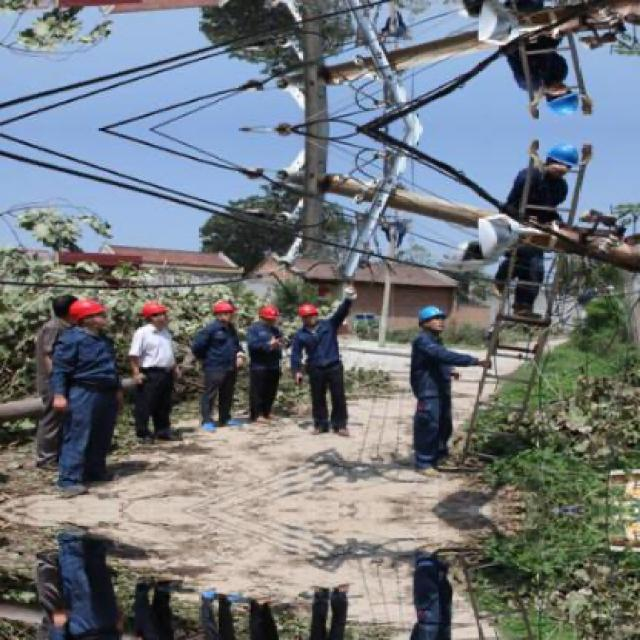con casco: (536, 138, 588, 176), (251, 292, 291, 331), (420, 305, 460, 336), (304, 290, 340, 316)
